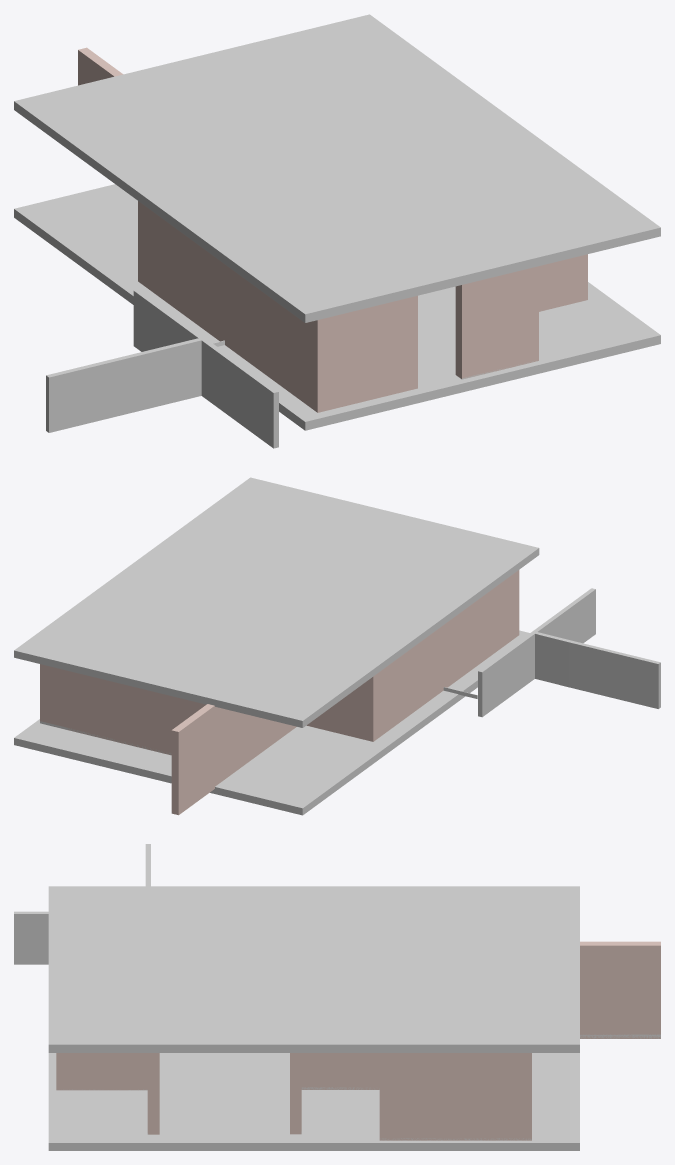
File: mapa_mnemo.0.31.fbx
3 views of the same model, one above another, from view 1: azimuth 30°, elevation 25°; view 2: azimuth 150°, elevation 25°; view 3: azimuth 270°, elevation 25° (orthographic). The views are drawn at different scales.
Parts seen in each view (by area): view 1: Cube, Room, Cube.001, Plane, Room.001; view 2: Cube, Room, Cube.001, Plane, Room.002; view 3: Cube, Cube.001, Room.002, Room, Room.001, Plane.
Boxes of the visible parts, x1,y1,x2,y2 form: Cube: [14, 14, 660, 322]; Room: [78, 47, 417, 412]; Cube.001: [14, 184, 660, 430]; Plane: [46, 289, 278, 448]; Room.001: [455, 254, 587, 378]; Cube: [14, 477, 539, 727]; Room: [171, 570, 519, 815]; Cube.001: [14, 630, 529, 815]; Plane: [478, 588, 660, 717]; Room.002: [40, 664, 205, 754]; Cube: [48, 886, 579, 1052]; Cube.001: [48, 1053, 579, 1150]; Room.002: [290, 1053, 531, 1140]; Room: [580, 941, 660, 1038]; Room.001: [56, 1053, 159, 1134]; Plane: [14, 844, 150, 964].
Bounding box in the file's own units: 1500 × 299 × 1649.
